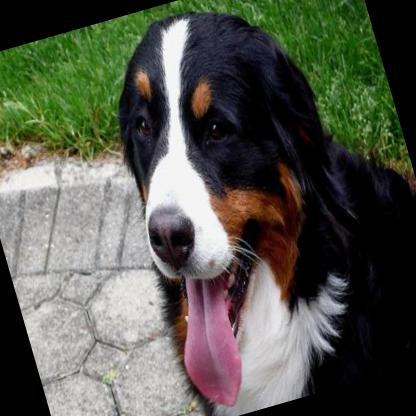Bernese_mountain_dog: (79, 0, 416, 416)
